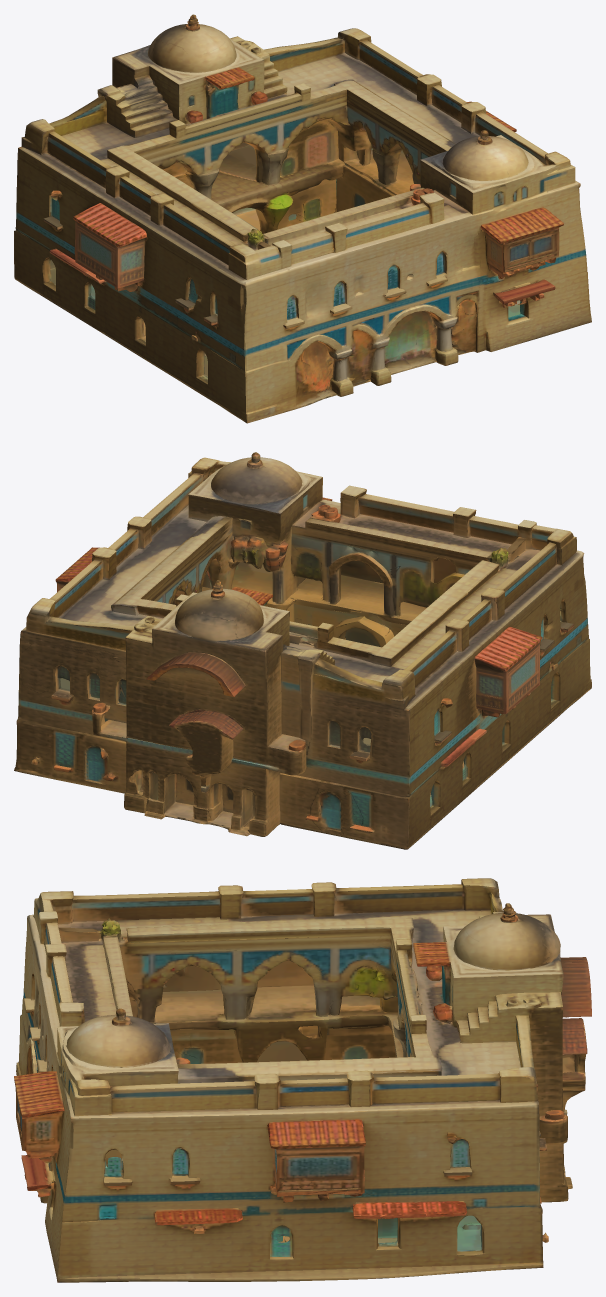
The model's file is r3_arab_courtyard.glb.
The picture shows the model from 3 angles, top to bottom: view 1: azimuth 30°, elevation 25°; view 2: azimuth 150°, elevation 25°; view 3: azimuth 270°, elevation 25°; orthographic projection. The views are drawn at different scales.
Parts seen in each view (by area): view 1: geometry_0; view 2: geometry_0; view 3: geometry_0.
Part boxes in pixels (x1,y1,x2,y2): geometry_0: [14, 14, 591, 423]; geometry_0: [14, 452, 591, 849]; geometry_0: [14, 878, 591, 1282].
Size of the model in its own units: 16 by 8 by 16.
Materials: 1 (1 with a texture image).
